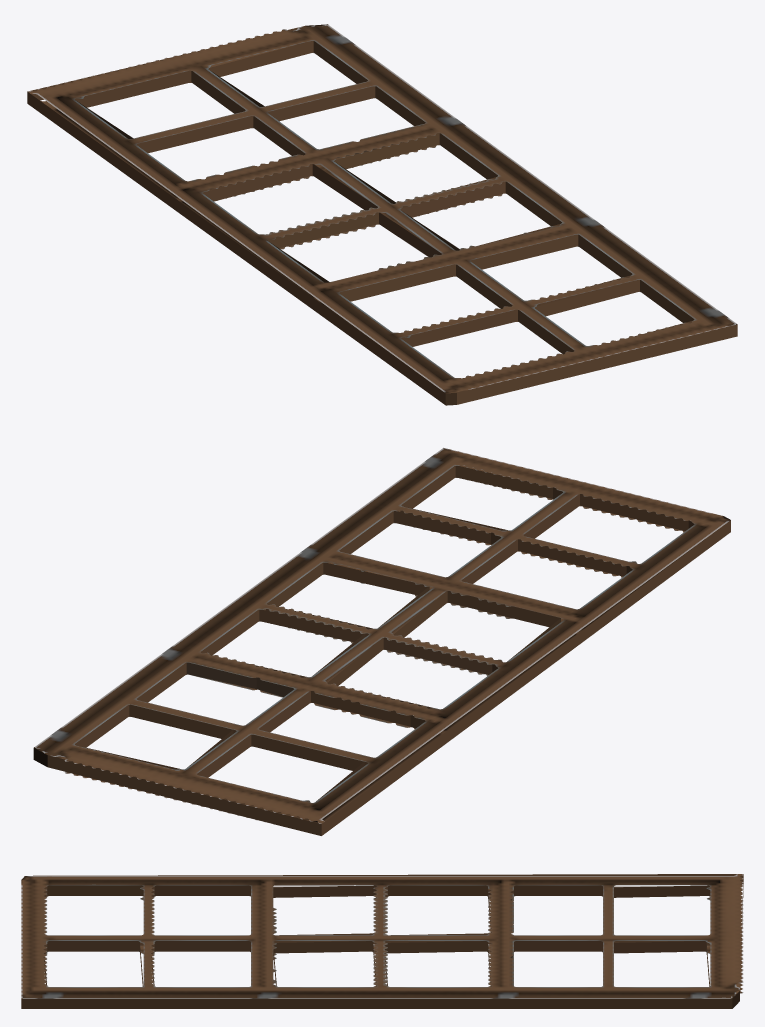
The model's file is pz_native_fixtures_windows_wood_15_frame.obj.
3 views of the same model, one above another, from view 1: azimuth 30°, elevation 25°; view 2: azimuth 150°, elevation 25°; view 3: azimuth 270°, elevation 25° (orthographic). The views are drawn at different scales.
Visible parts, largest first — view 1: pz_native_fixtures_windows_wood_15_frame; view 2: pz_native_fixtures_windows_wood_15_frame; view 3: pz_native_fixtures_windows_wood_15_frame.
Boxes of the visible parts, x1,y1,x2,y2 form: pz_native_fixtures_windows_wood_15_frame: (27,24,737,405); pz_native_fixtures_windows_wood_15_frame: (33,448,730,835); pz_native_fixtures_windows_wood_15_frame: (21,874,743,1008).
Bounding box in the file's own units: 1.08 × 0.04 × 2.54.
1 material, 1 textured.
